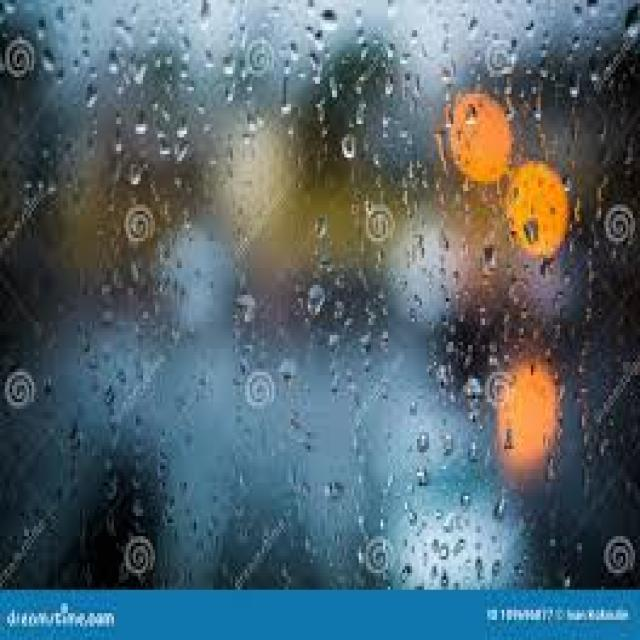raindrop: (458, 370, 488, 417), (306, 276, 332, 323), (333, 121, 362, 161), (38, 41, 66, 80), (413, 424, 443, 458), (317, 3, 343, 36), (130, 104, 152, 142), (492, 490, 512, 529)
